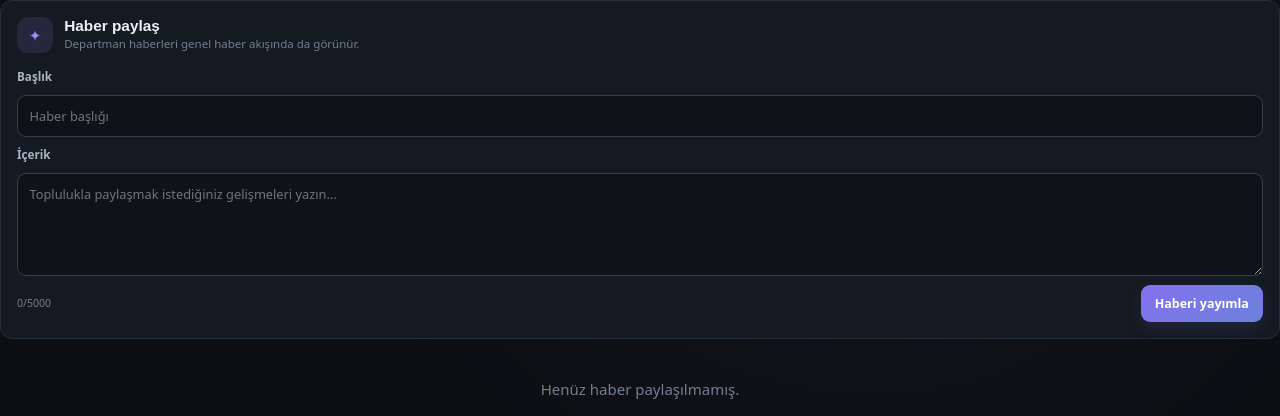
Test: publishes the article and clears the form only after success
Type "Atölye" into the field labelled "Başlık".
click(640, 116); type("Atölye")  # box top-left (17, 95), bottom-right (1263, 137)
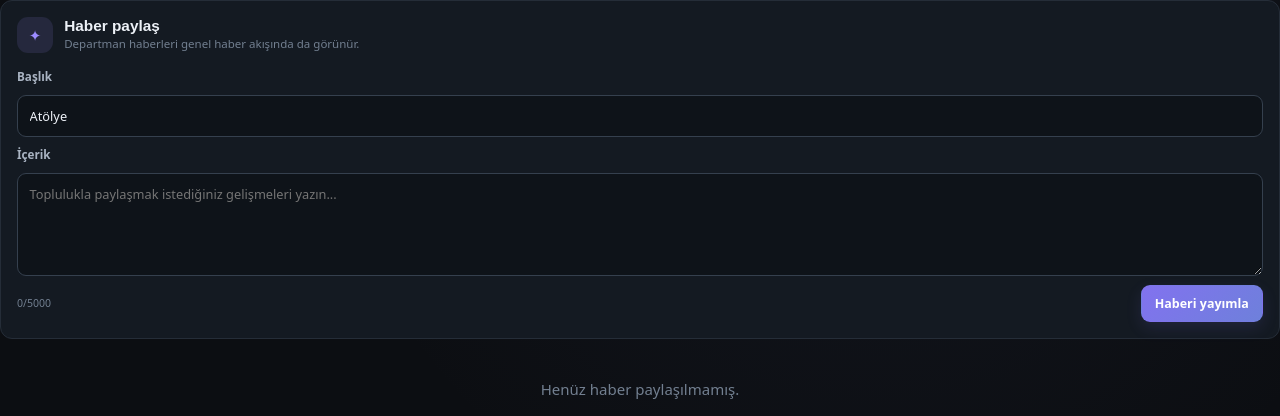
Type "Yeni atölyemiz yakında." into the text box labelled "İçerik".
click(640, 225); type("Yeni atölyemiz yakında.")  # box top-left (17, 173), bottom-right (1263, 276)
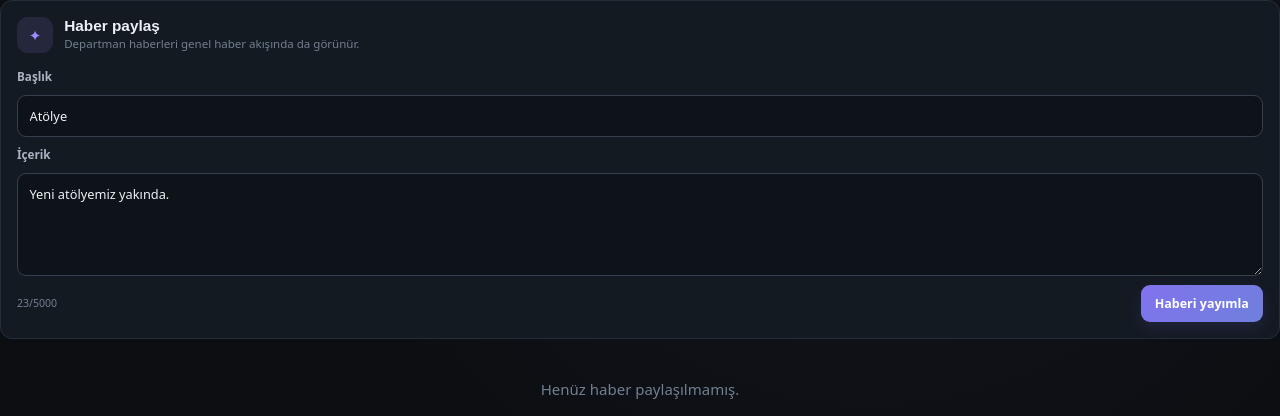
Click the button "Haberi yayımla".
click(1202, 304)  # box top-left (1141, 285), bottom-right (1263, 322)
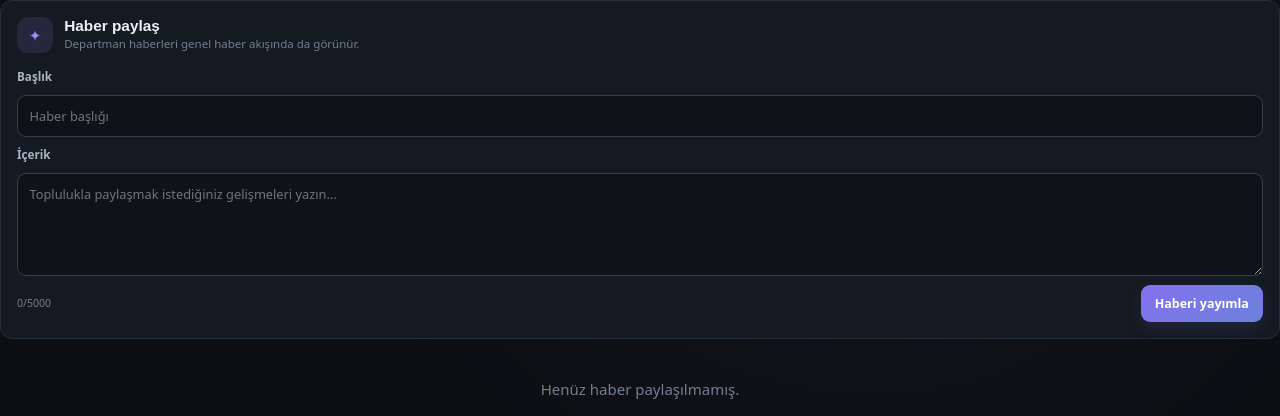
Result: the field labelled "Başlık" is empty at top-left (17, 95), bottom-right (1263, 137)
